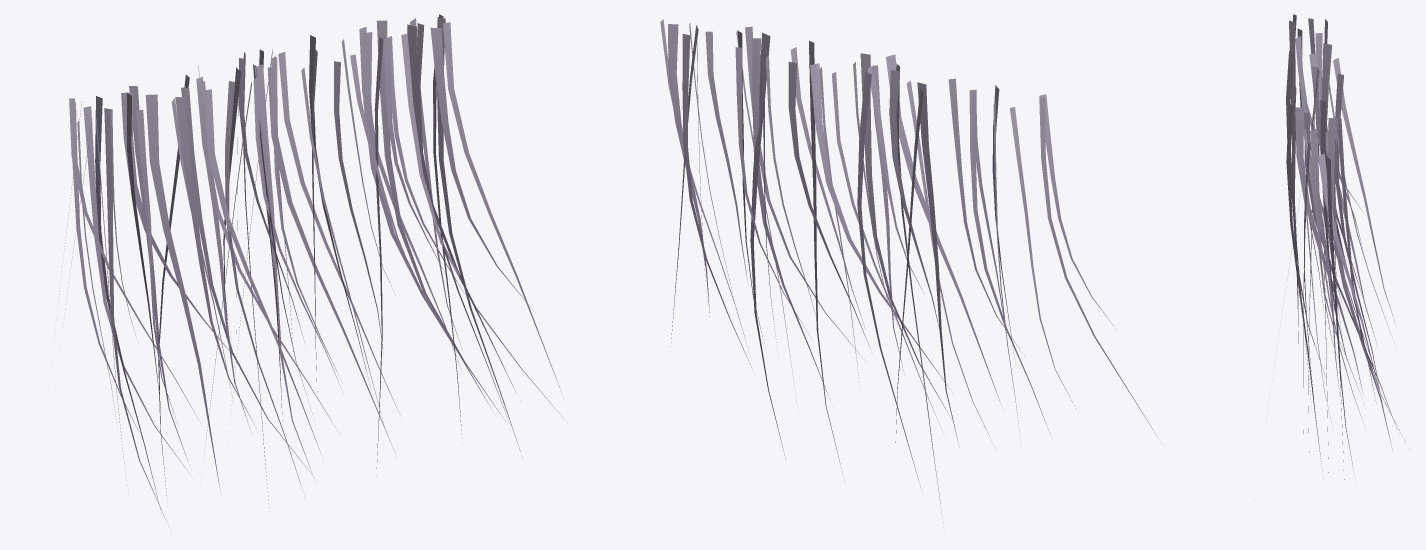
File: mesh-plant-040-willow-veil_LOD1.glb
The picture shows the model from 3 angles, left to right: view 1: azimuth 30°, elevation 25°; view 2: azimuth 150°, elevation 25°; view 3: azimuth 270°, elevation 25°; orthographic projection. The views are drawn at different scales.
Parts seen in each view (by area): view 1: geometry_0; view 2: geometry_0; view 3: geometry_0.
Boxes of the visible parts, x1,y1,x2,y2 form: geometry_0: (59,14,563,521); geometry_0: (660,19,1161,522); geometry_0: (1278,14,1405,479).
Bounding box in the file's own units: 3.22 × 2.37 × 1.31.
